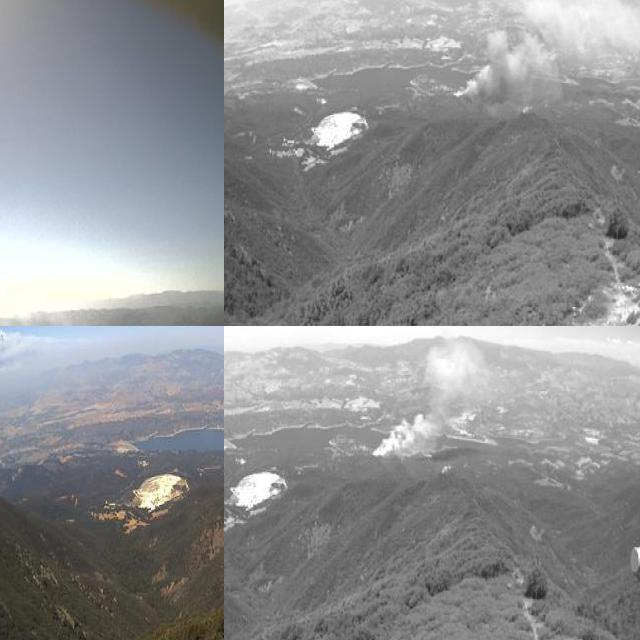smoke: (452, 0, 640, 101), (369, 328, 510, 461)
